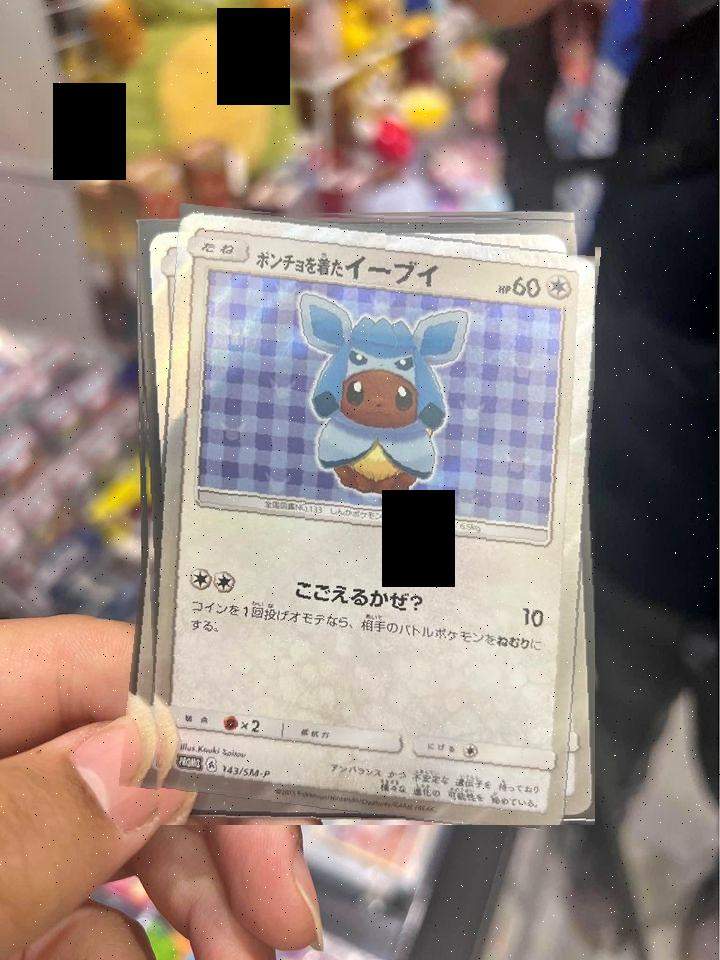card: (154, 212, 595, 825)
